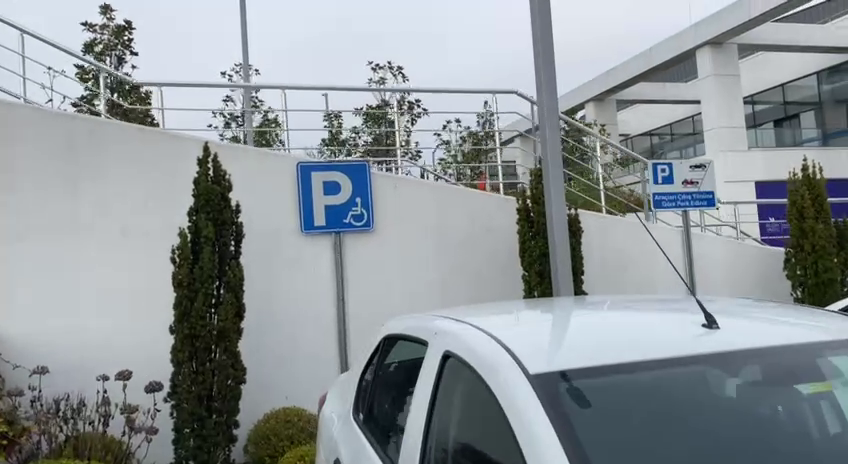parking: (295, 158, 374, 236), (650, 161, 675, 186)
